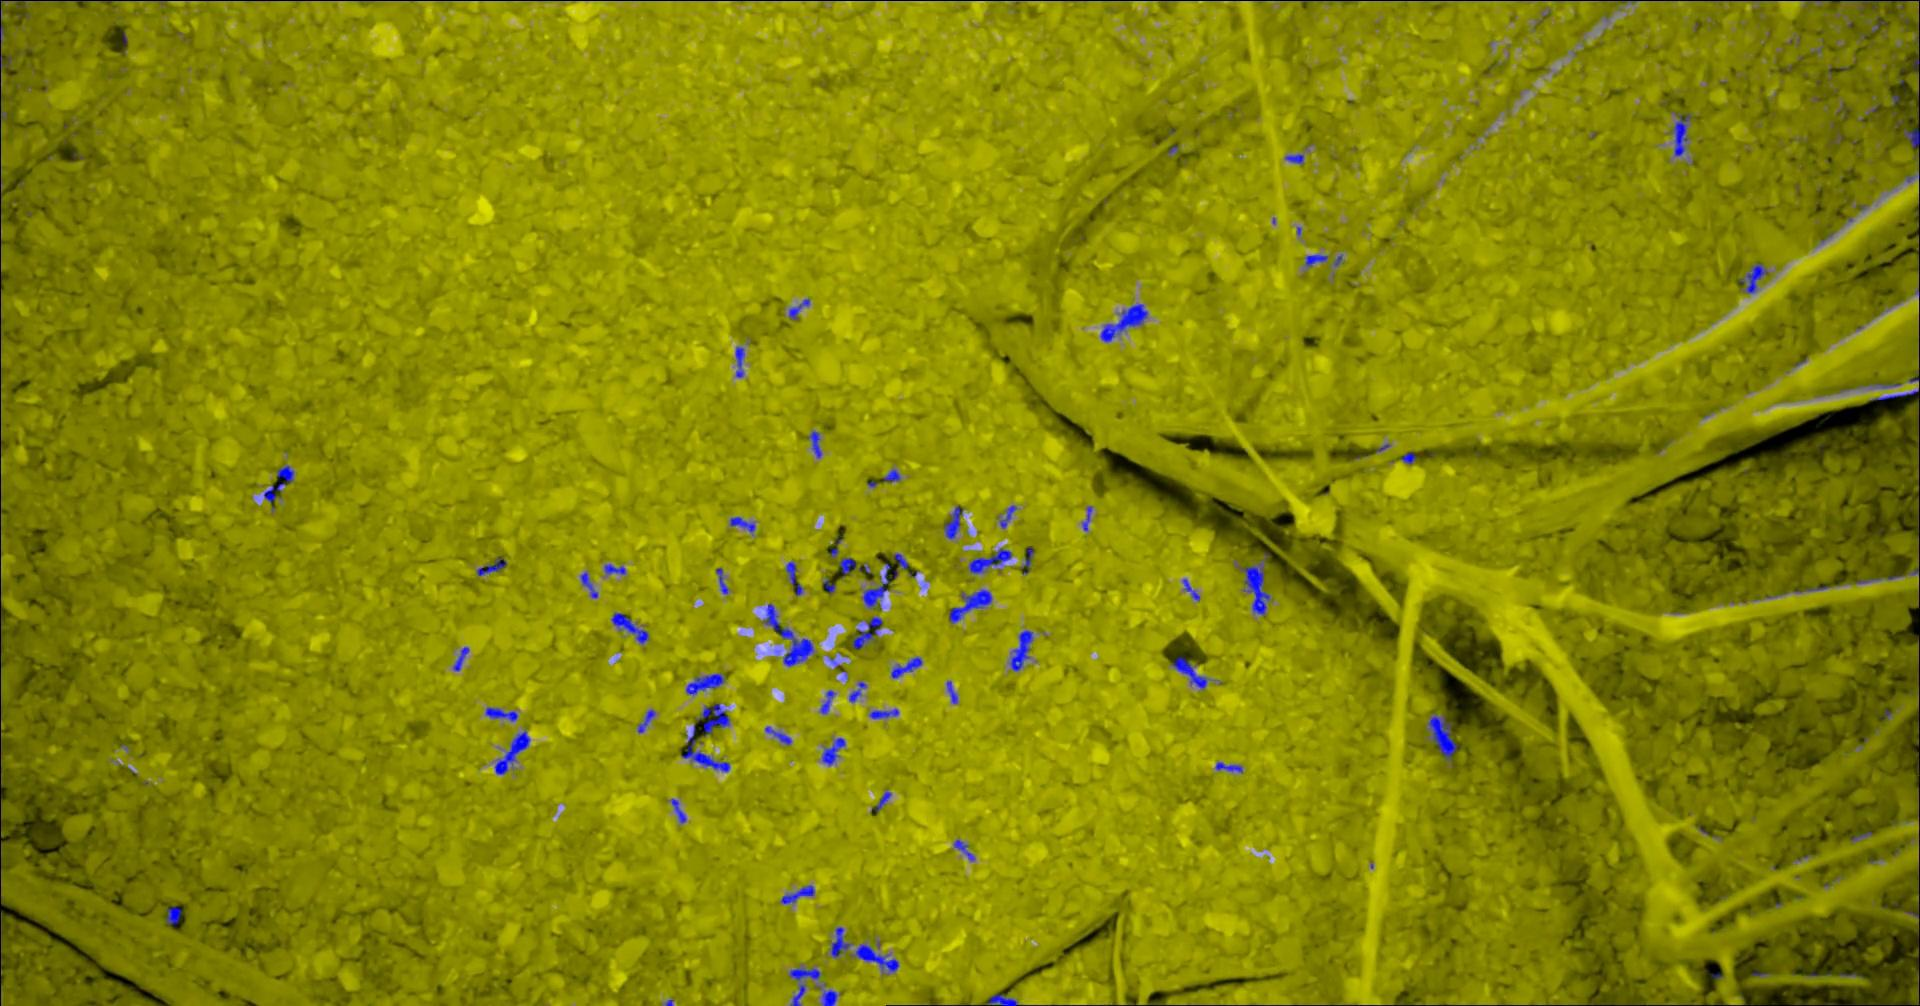ant: (764, 603, 813, 666), (681, 724, 729, 771), (1098, 304, 1147, 340), (494, 730, 530, 774), (1427, 713, 1459, 760), (1239, 563, 1269, 614), (949, 589, 990, 622), (263, 465, 293, 508), (862, 561, 890, 608), (789, 967, 820, 1005), (1171, 655, 1206, 688), (855, 944, 898, 970), (611, 612, 648, 643), (968, 547, 1011, 573), (697, 702, 729, 735), (852, 616, 883, 648), (1670, 112, 1691, 156), (1010, 630, 1032, 669), (1738, 263, 1768, 292), (684, 673, 724, 694), (890, 655, 922, 678), (822, 737, 844, 765), (943, 506, 963, 539), (780, 885, 814, 903), (785, 561, 803, 594), (830, 926, 850, 956), (1869, 389, 1919, 400), (476, 558, 505, 575), (1855, 573, 1903, 583), (764, 727, 791, 744), (485, 708, 517, 721), (729, 516, 756, 532), (952, 840, 974, 860), (1849, 0, 1906, 8), (580, 572, 597, 597), (789, 298, 809, 319), (1903, 128, 1919, 155), (999, 504, 1016, 528), (452, 647, 469, 671), (637, 709, 654, 733), (808, 431, 822, 459), (1911, 22, 1919, 71), (820, 688, 836, 713), (670, 798, 686, 822), (872, 791, 891, 810), (985, 993, 1017, 1005), (848, 681, 866, 701), (1182, 578, 1199, 600), (715, 567, 728, 593), (165, 906, 182, 926), (1021, 547, 1032, 574), (1215, 761, 1242, 772), (869, 708, 898, 718), (822, 989, 841, 1005), (735, 345, 744, 377), (838, 558, 855, 574), (1304, 254, 1327, 265), (946, 680, 957, 702), (893, 553, 908, 569), (881, 469, 900, 481), (822, 578, 836, 593), (604, 564, 625, 574), (1284, 152, 1303, 163), (1399, 452, 1415, 464), (0, 0, 3, 43), (1917, 401, 1919, 470)
